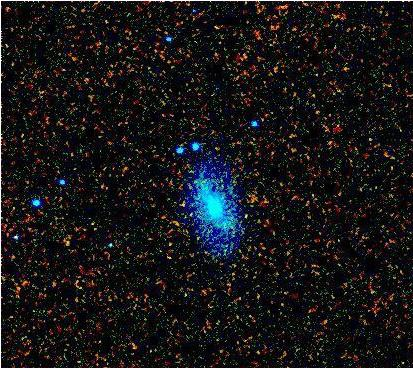star: (50, 228, 80, 258)
